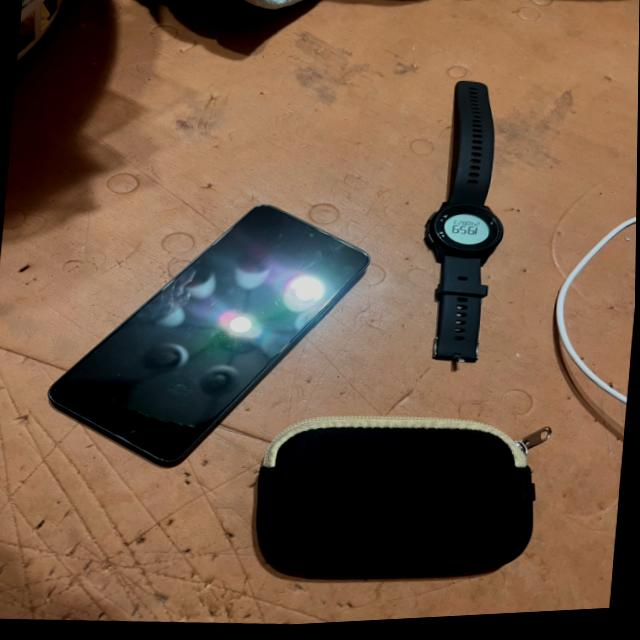Smartphone: (48, 208, 369, 468)
